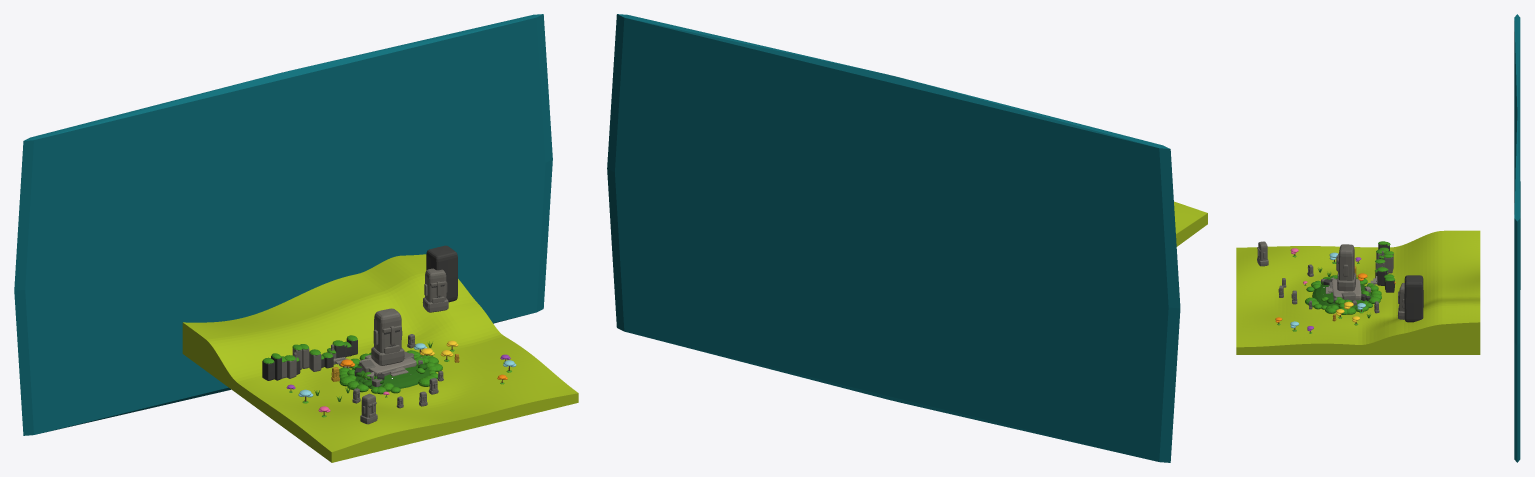
The model's file is isla_moai.obj.
3 views of the same model, side by side, from view 1: azimuth 30°, elevation 25°; view 2: azimuth 150°, elevation 25°; view 3: azimuth 270°, elevation 25° (orthographic). The views are drawn at different scales.
Visible parts, largest first — view 1: cielo_1, terreno_0, monolito_367, cuerpo_8, monticulo_2; view 2: cielo_1, terreno_0; view 3: terreno_0, cielo_1, monolito_367, cuerpo_8, monticulo_2.
Boxes of the visible parts, box(x1,y1,x2,y2) form: cielo_1: box(14, 14, 552, 435); terreno_0: box(182, 254, 578, 462); monolito_367: box(426, 245, 457, 302); cuerpo_8: box(374, 308, 401, 352); monticulo_2: box(352, 364, 429, 388); cielo_1: box(607, 14, 1180, 462); terreno_0: box(1174, 201, 1207, 246); terreno_0: box(1236, 230, 1480, 354); cielo_1: box(1514, 14, 1520, 462); monolito_367: box(1404, 275, 1423, 322); cuerpo_8: box(1338, 244, 1354, 280); monticulo_2: box(1312, 284, 1371, 308).
Bounding box in the file's own units: 96 × 52 × 53.6.
